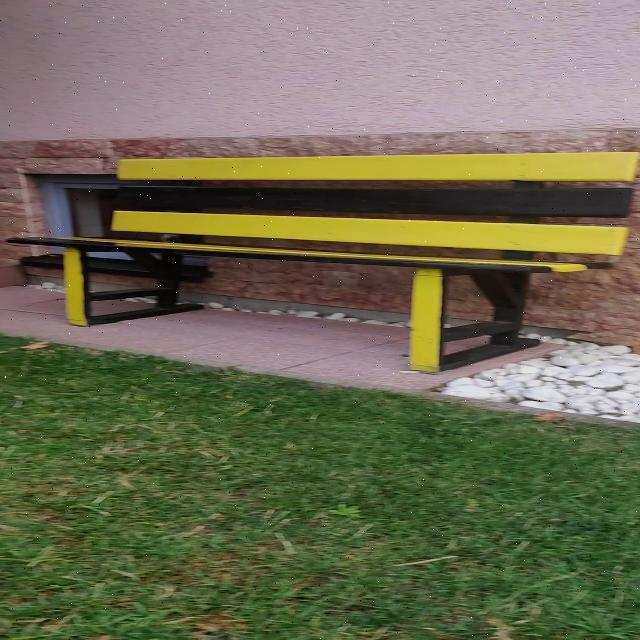lawn: (0, 337, 640, 640)
